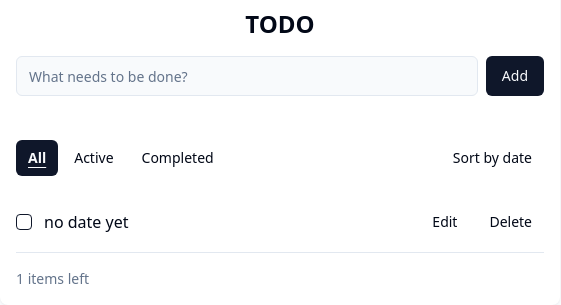
Test case: R9 — edit-mode-only set/clear due date affordance › setting a date in edit mode issues exactly one PUT carrying that dueDate
Expected: the text "no date yet" is shown, [44,211,128,233]
Click the button "Edit": {"x": 445, "y": 222} [420,204,470,240]
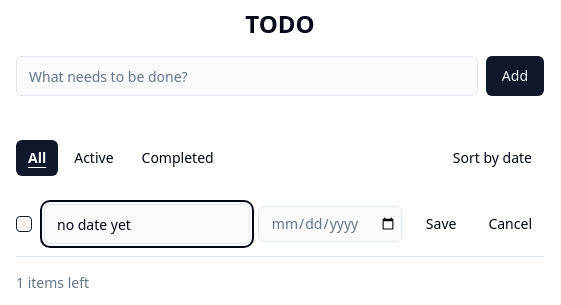
In the date field named "Due date": {"x": 330, "y": 224} [258,206,402,242], type "2026-08-01"
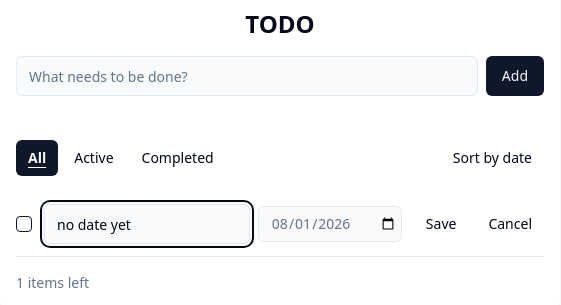
Click the button "Save": {"x": 441, "y": 224} [414,206,468,242]
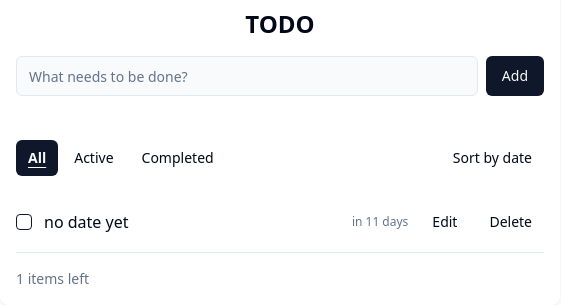
Expected: the text "no date yet" is shown, [44,211,128,233]
